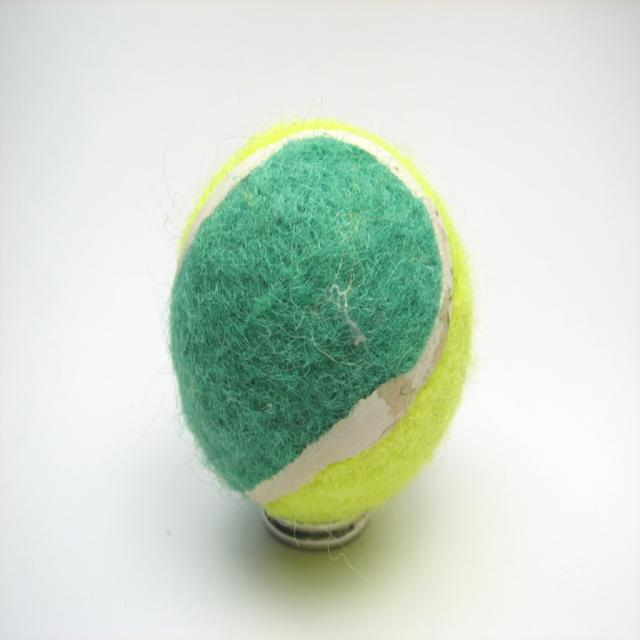Tennis ball: (166, 120, 470, 524)
